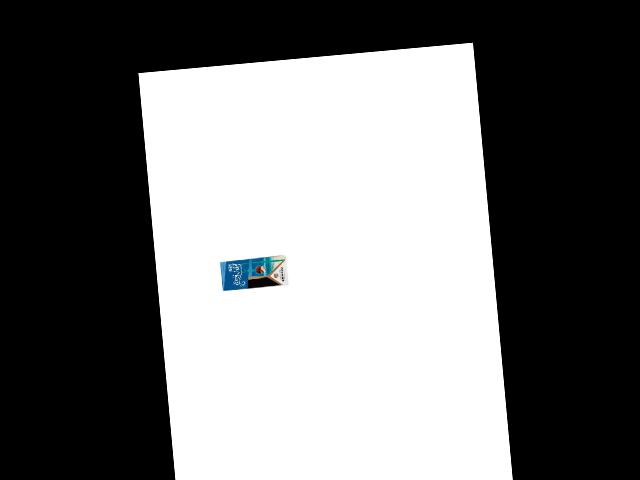chocolate: (218, 254, 290, 293)
